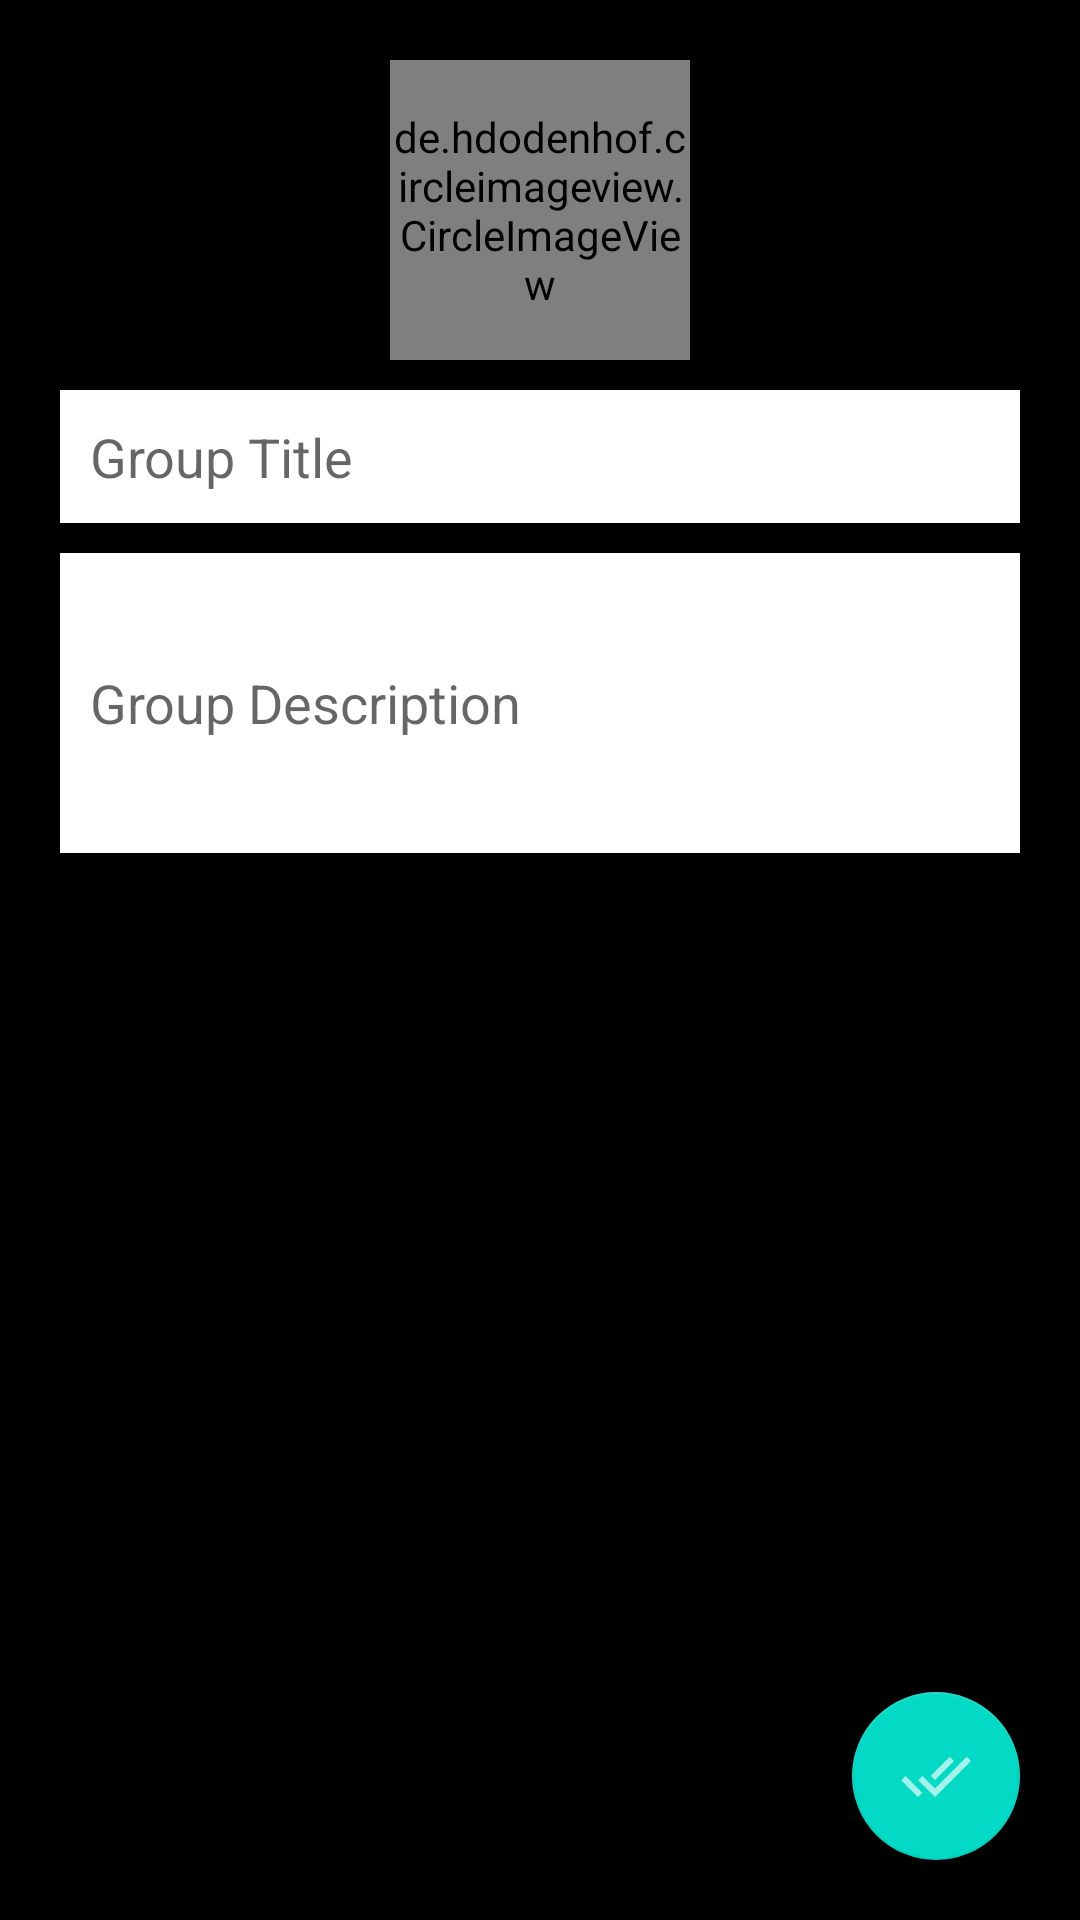

Named icons in this screenshot (1080×1920) and their centers, (x,y):
done: (936,1776)
